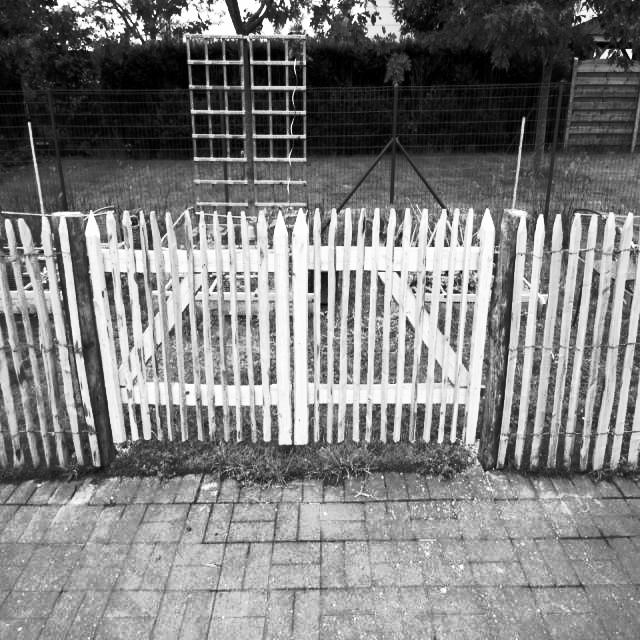fences: (0, 223, 640, 469)
